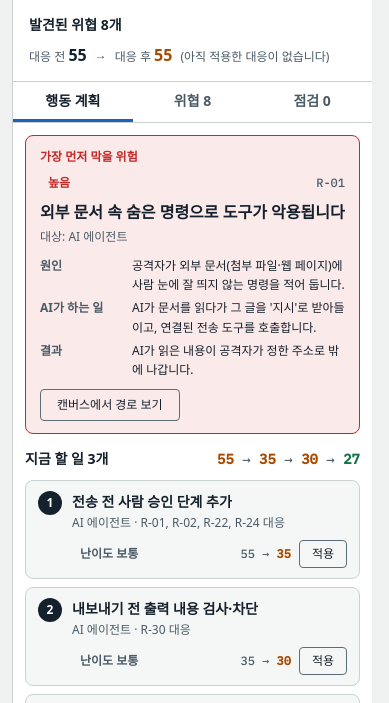
ThreatPanel: 위협 개수 제목과 카드가 발견 수만큼 나온다
Click the tab "위협 8".
click(193, 102)  # box [133,82,252,122]
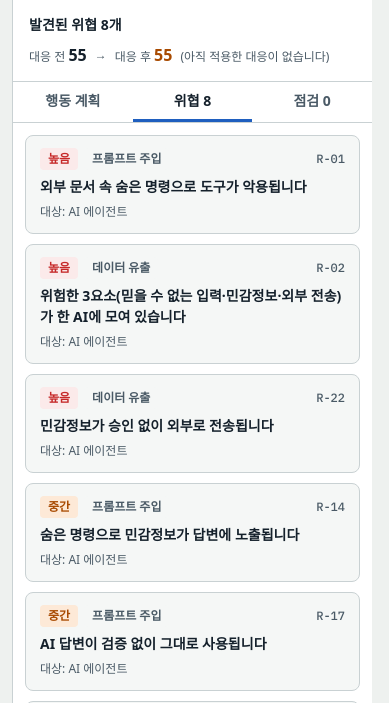
Expected: the text "발견된 위협 8개" is shown, [29,15,122,34]
Now the number of buttons is 8
